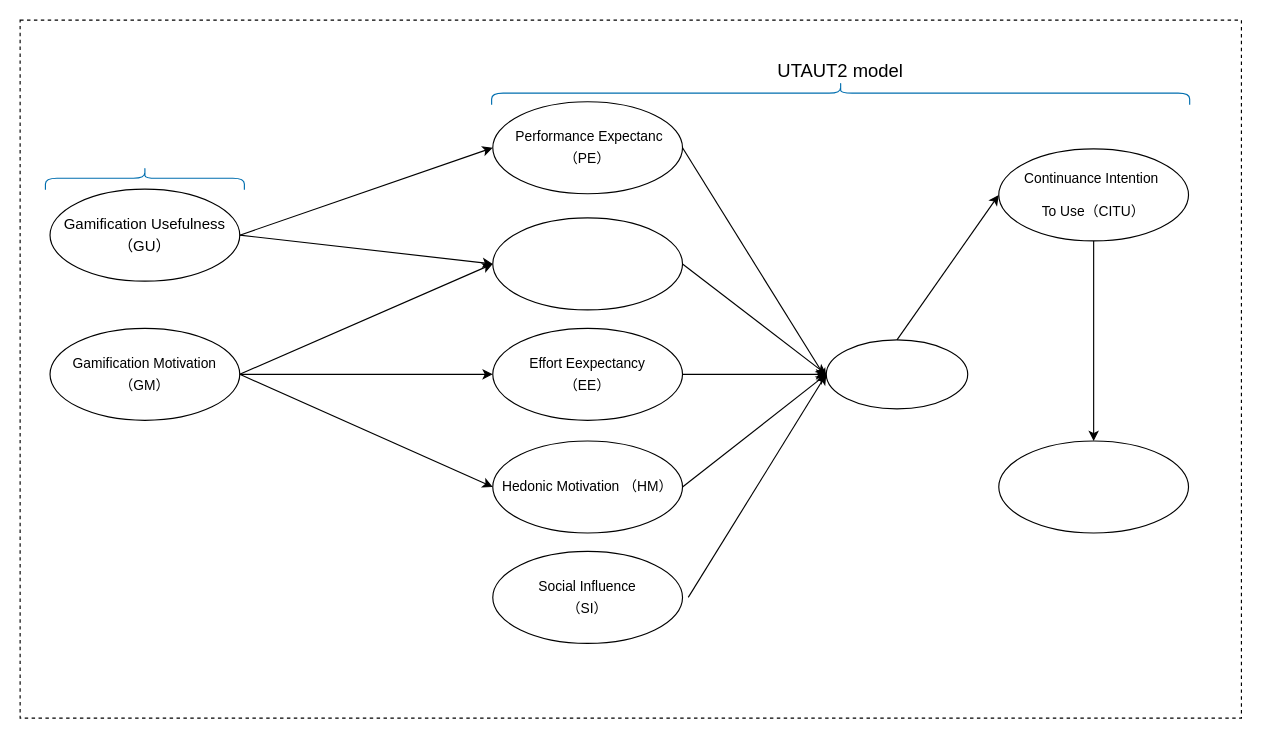
Image size: 1262x738. Some labels were removed from this diagram. Each missing label, with the box of its shape:
Actually Use（AU）: (998, 440, 1189, 533)
Attitude: (825, 339, 968, 409)
New variables: (44, 166, 244, 190)
Self Efficacy （SE）: (492, 217, 683, 310)
